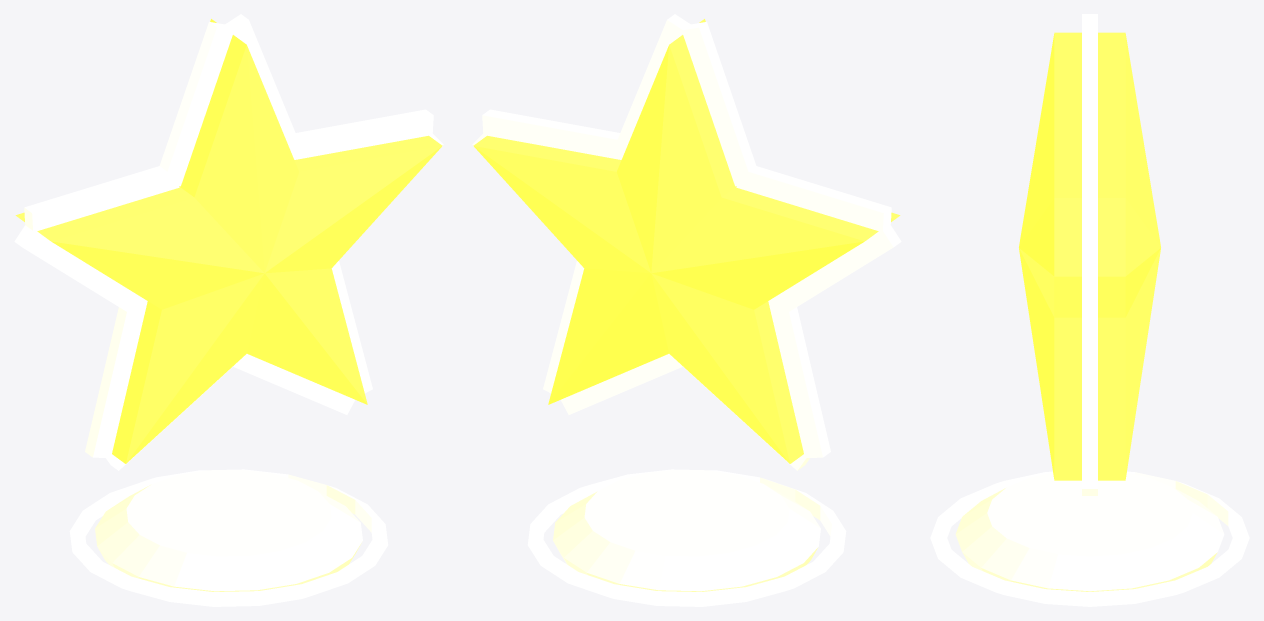
The model's file is prop_star_v01.glb.
The picture shows the model from 3 angles, left to right: view 1: azimuth 30°, elevation 25°; view 2: azimuth 150°, elevation 25°; view 3: azimuth 270°, elevation 25°; orthographic projection.
Parts seen in each view (by area): view 1: star, star_base; view 2: star, star_base; view 3: star, star_base.
Part boxes in pixels (x1,y1,x2,y2): star: (14, 14, 443, 470); star_base: (69, 469, 388, 606); star: (472, 14, 901, 470); star_base: (527, 469, 846, 606); star: (1019, 14, 1160, 495); star_base: (930, 471, 1249, 606).
Bounding box in the file's own units: 0.6138 × 0.7351 × 0.404.
